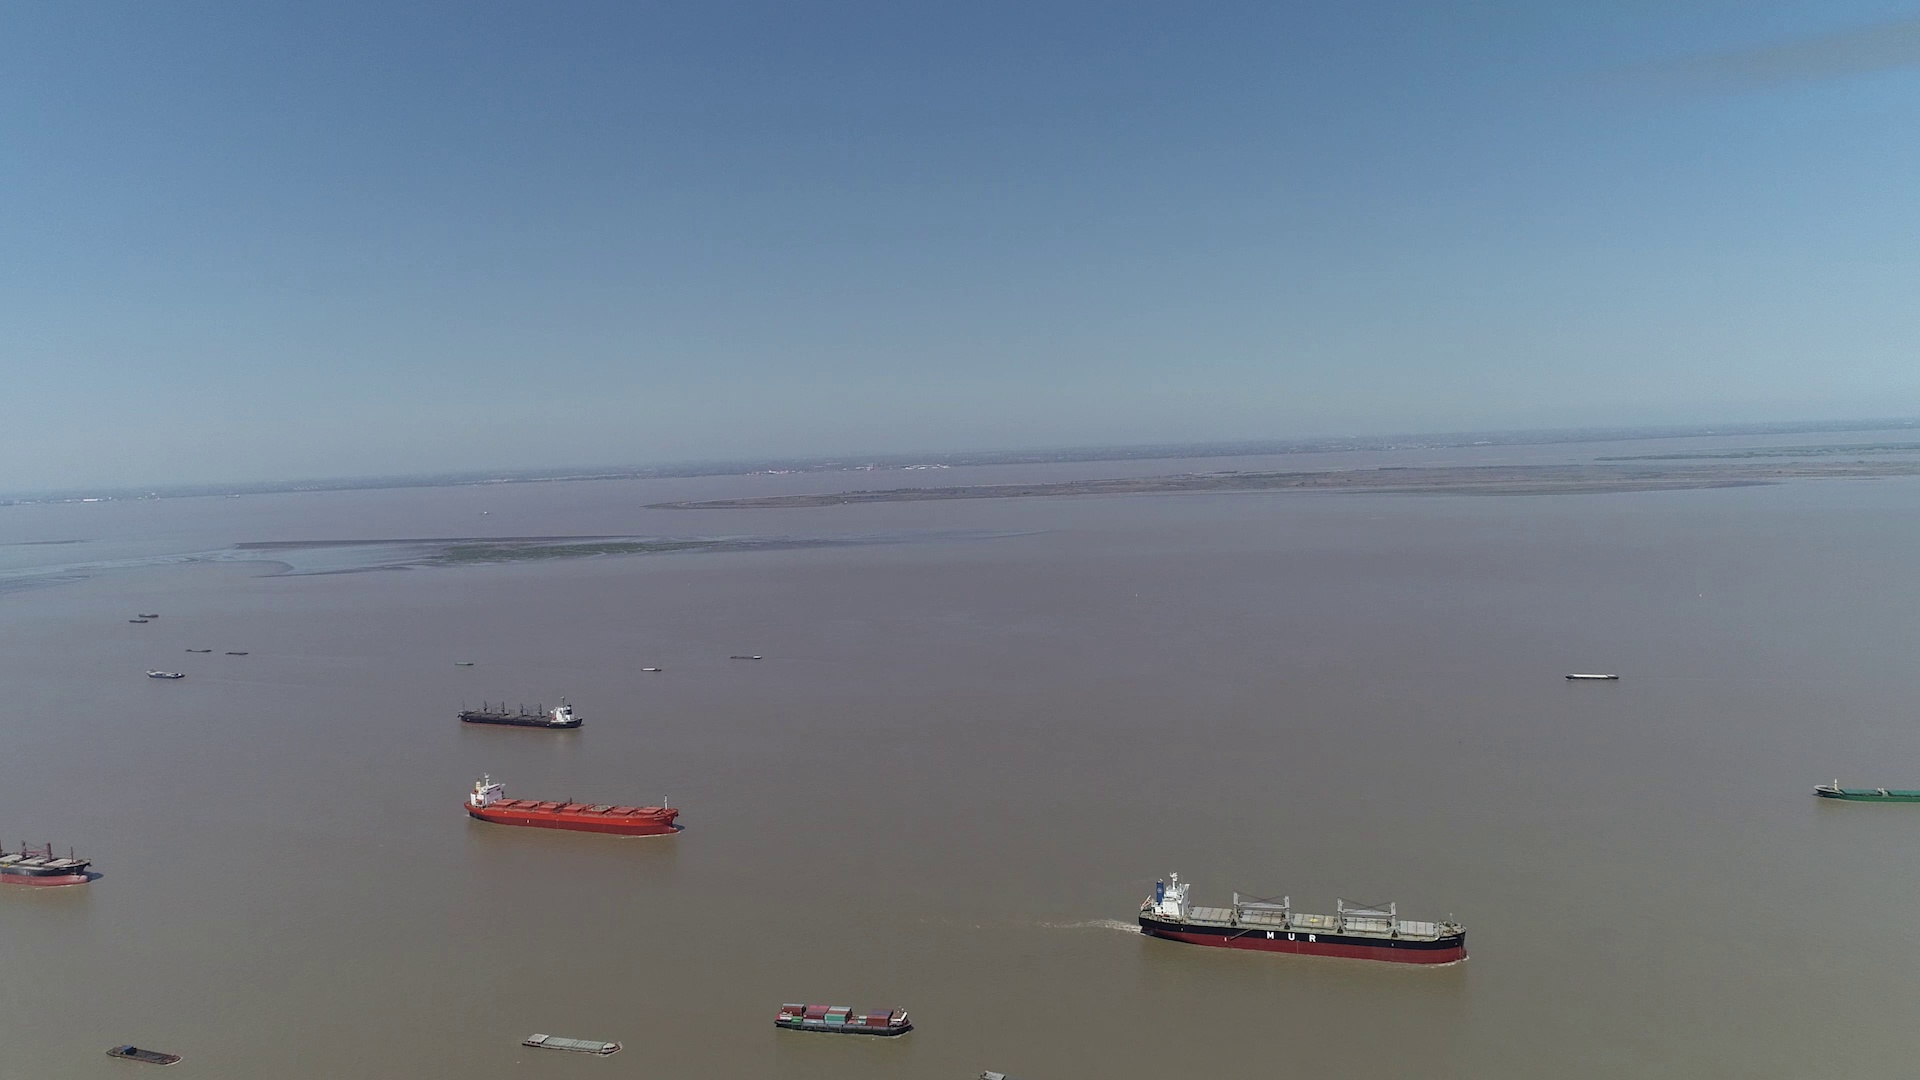ship: (1139, 873, 1469, 965), (465, 771, 680, 836), (0, 832, 96, 886), (775, 1001, 913, 1036), (458, 698, 582, 729), (1815, 781, 1919, 803), (524, 1033, 622, 1055), (108, 1046, 179, 1065), (146, 669, 189, 680), (1568, 674, 1615, 682)
